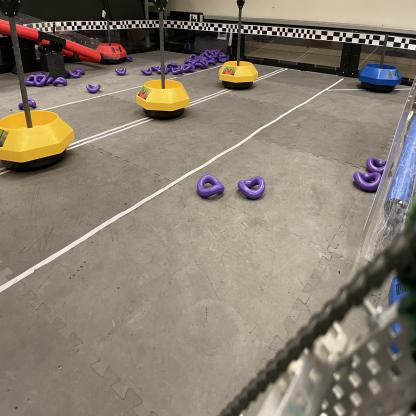ring: (196, 174, 225, 199), (237, 176, 266, 200), (353, 171, 382, 193), (366, 156, 394, 174), (18, 97, 36, 110), (34, 74, 48, 86), (52, 76, 67, 87), (67, 69, 81, 80), (86, 83, 101, 93), (25, 75, 37, 86), (72, 67, 85, 76), (199, 58, 209, 69), (42, 76, 54, 85), (156, 65, 168, 74), (114, 68, 127, 76), (141, 68, 152, 76), (182, 64, 192, 72), (185, 64, 195, 72), (172, 67, 183, 74), (193, 62, 204, 69), (166, 62, 178, 68), (169, 64, 181, 70), (204, 49, 212, 57), (124, 55, 133, 62), (207, 59, 216, 66), (218, 56, 227, 63), (218, 52, 227, 58), (202, 52, 209, 59), (208, 50, 216, 56), (189, 54, 197, 60), (184, 58, 193, 63), (152, 66, 160, 70), (215, 49, 219, 54)
